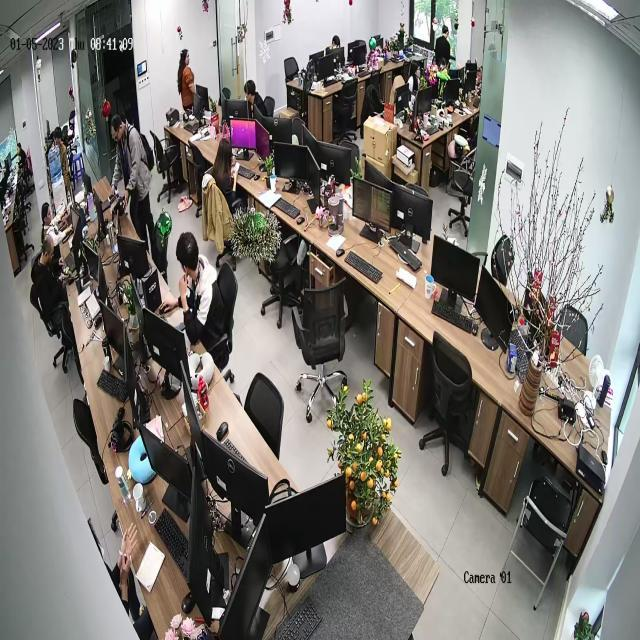person: (164, 232, 236, 376), (111, 114, 157, 261), (31, 229, 75, 323), (211, 131, 242, 206), (40, 202, 77, 251), (178, 50, 196, 118), (244, 79, 269, 124), (435, 23, 452, 70)
